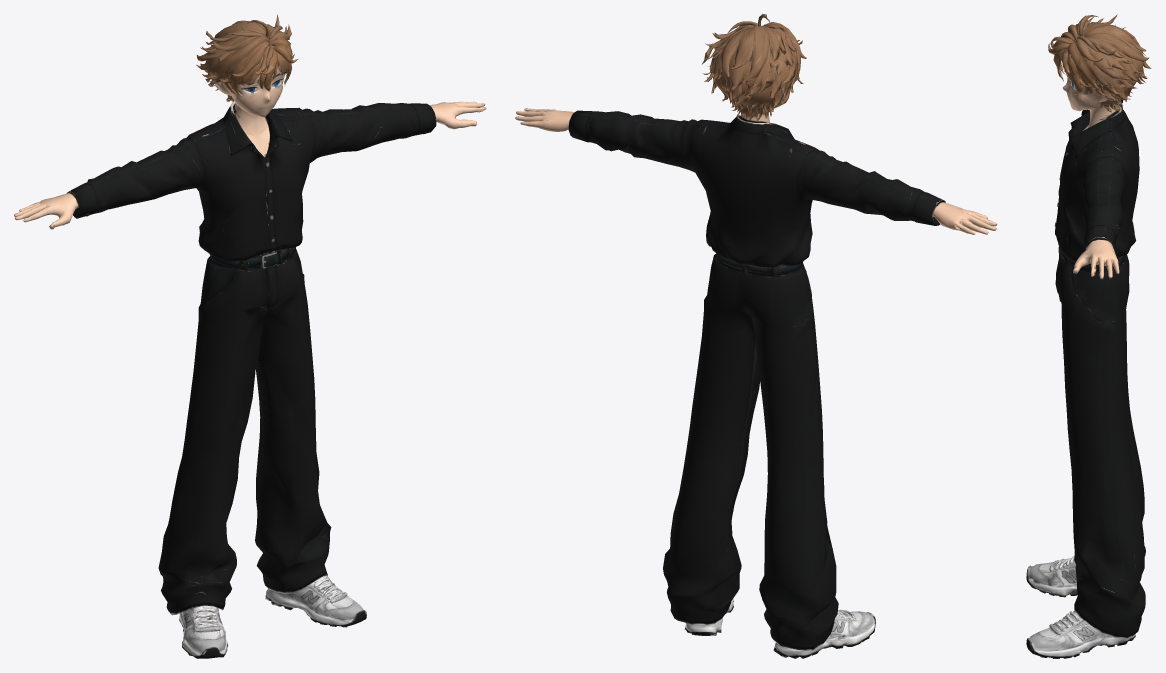
Rendered from grisha.glb.
3 renders of one model, left to right at view 1: azimuth 30°, elevation 25°; view 2: azimuth 150°, elevation 25°; view 3: azimuth 270°, elevation 25°, orthographic. The views are drawn at different scales.
Bounding box in the file's own units: 0.772 × 0.9502 × 0.1787.
Materials: 1 (1 with a texture image).
